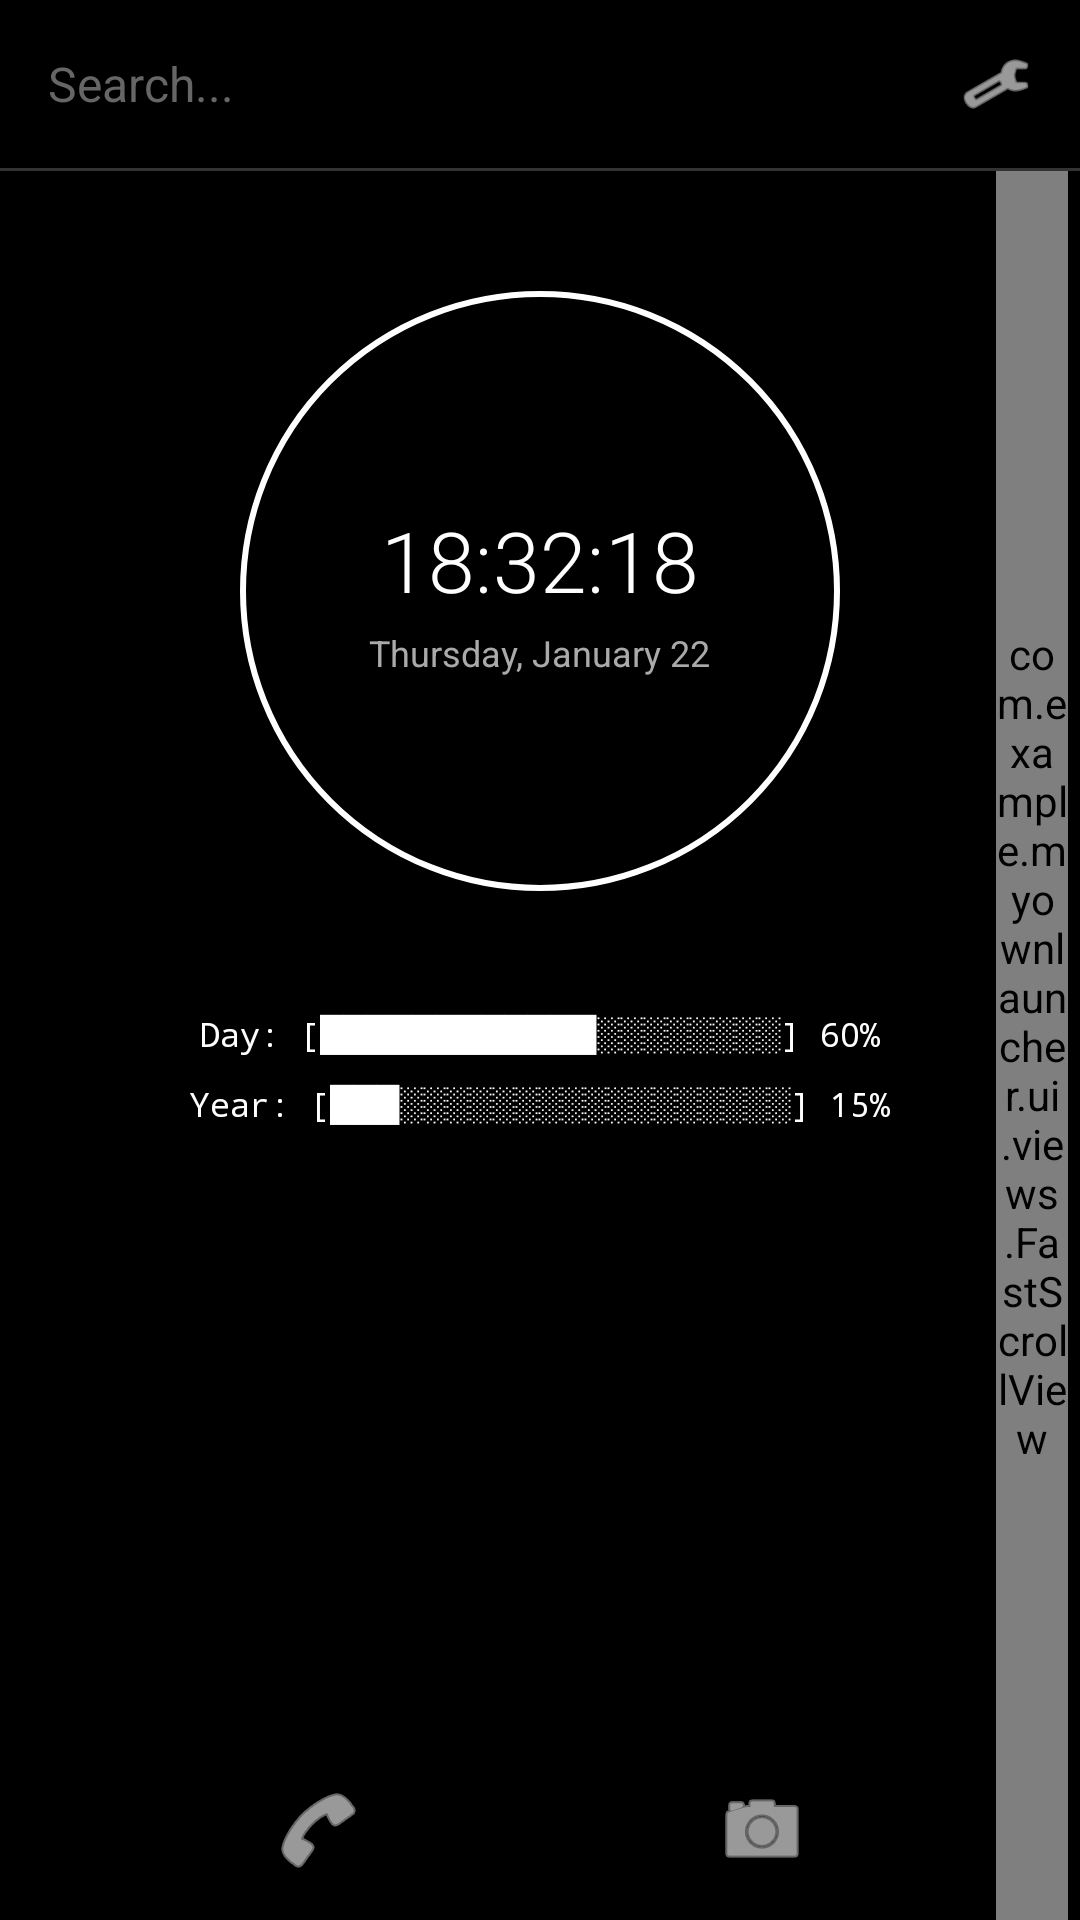

Icons on this 1080px×1920px Android screen, each with the point to tap as (x,y):
Camera: (762,1828)
Phone: (318,1830)
Settings: (995,84)
